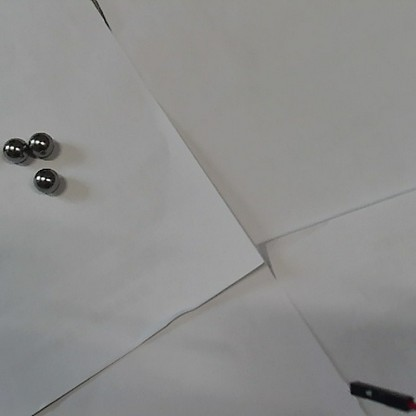ironball: (31, 165, 61, 194), (26, 128, 54, 158), (0, 137, 28, 165)
